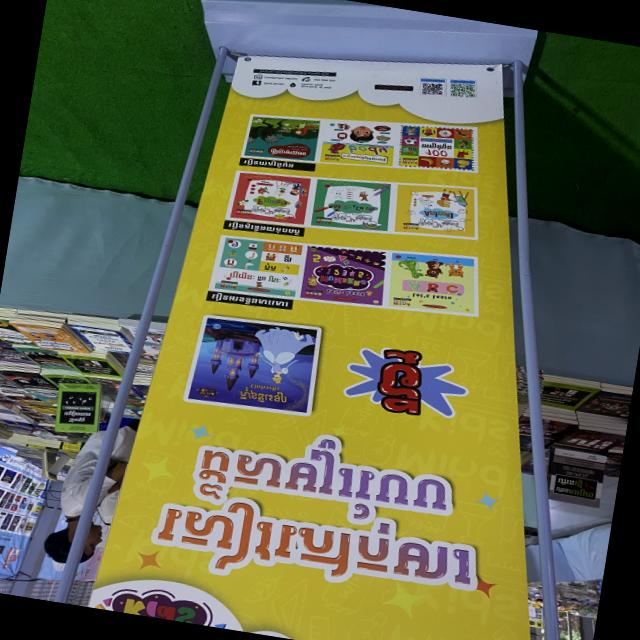2: (228, 269, 281, 286), (266, 244, 300, 254)
319: (313, 78, 336, 82)
506: (322, 267, 366, 280)
534: (424, 149, 449, 157), (432, 138, 441, 143)
764: (309, 252, 324, 266)
805: (323, 85, 333, 90)
Yolov11kh: (151, 490, 477, 599), (189, 420, 464, 532), (369, 343, 431, 423), (209, 292, 291, 310), (226, 221, 303, 237), (235, 385, 288, 407), (242, 157, 297, 170), (329, 210, 376, 225), (246, 204, 293, 219), (554, 484, 595, 500), (417, 217, 462, 229), (342, 153, 387, 164), (556, 474, 585, 489), (268, 148, 308, 157), (376, 84, 412, 93), (420, 143, 453, 151), (63, 410, 92, 418), (264, 262, 278, 273), (281, 253, 293, 264), (225, 258, 239, 267), (68, 417, 86, 423), (247, 251, 258, 259), (232, 241, 240, 249)
